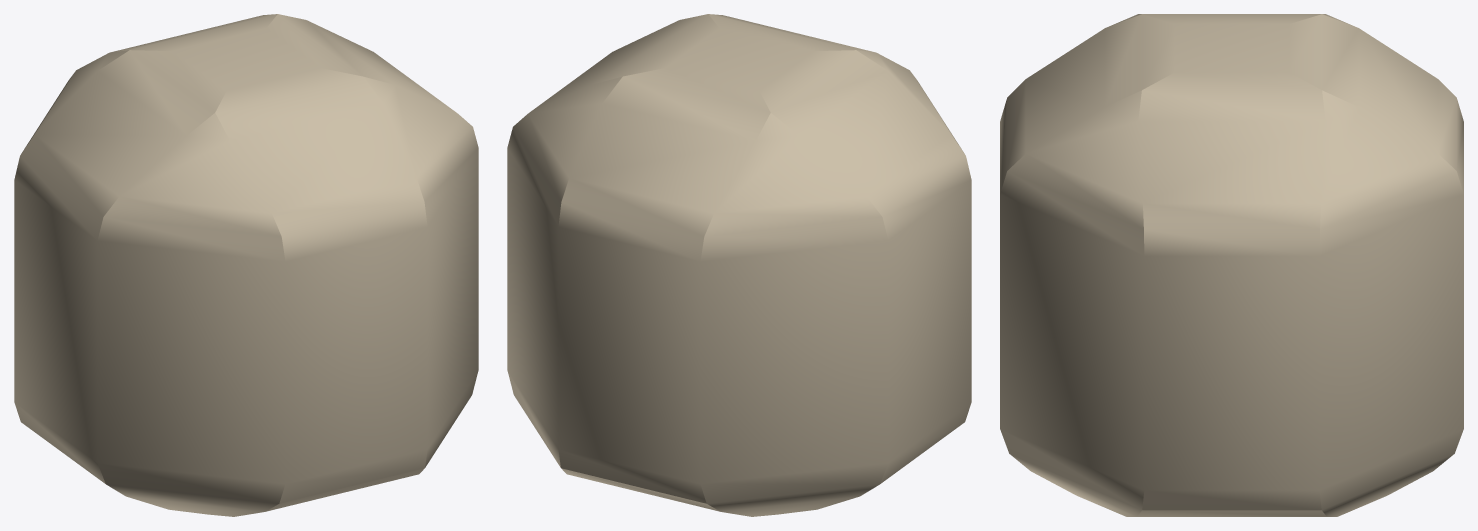
The model's file is rock.fbx.
3 renders of one model, left to right at view 1: azimuth 30°, elevation 25°; view 2: azimuth 150°, elevation 25°; view 3: azimuth 270°, elevation 25°, orthographic. The views are drawn at different scales.
Visible parts, largest first — view 1: pCube1; view 2: pCube1; view 3: pCube1.
Part boxes in pixels (bbox=[...]): pCube1: bbox=[14, 14, 478, 516]; pCube1: bbox=[507, 14, 971, 516]; pCube1: bbox=[1000, 14, 1463, 516].
Bounding box in the file's own units: 3000 × 3000 × 3000.
